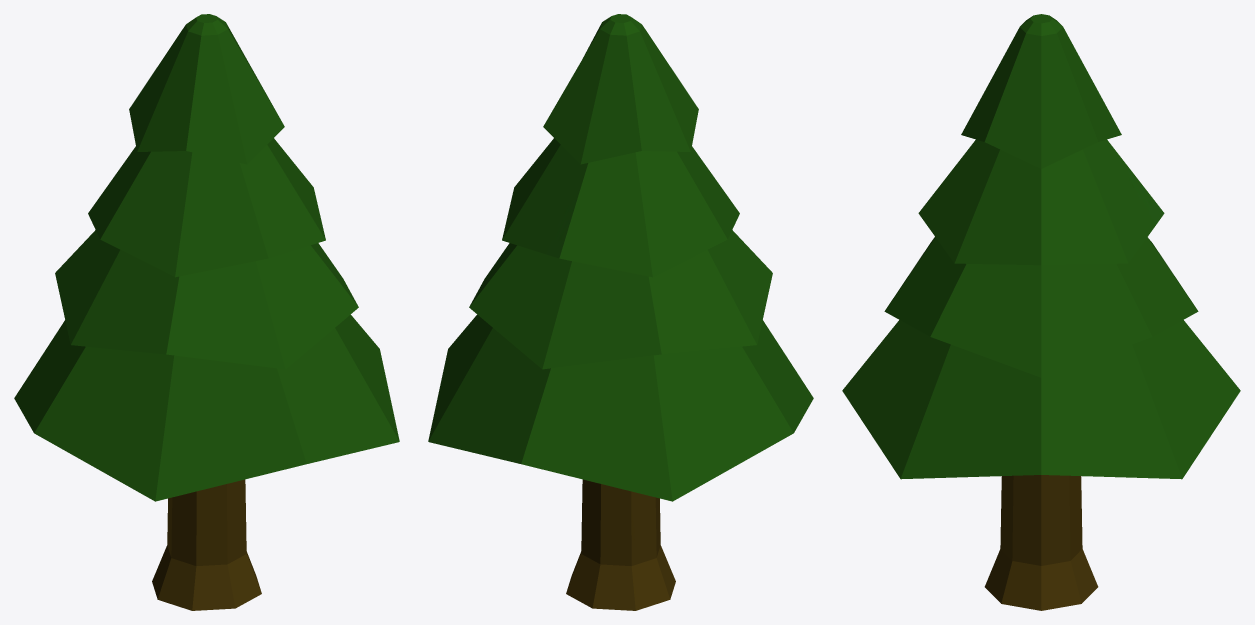
Rendered from PineTree2.FBX.
3 renders of one model, left to right at view 1: azimuth 30°, elevation 25°; view 2: azimuth 150°, elevation 25°; view 3: azimuth 270°, elevation 25°, orthographic.
Visible parts, largest first — view 1: PineTree001, PineTrunk; view 2: PineTree001, PineTrunk; view 3: PineTree001, PineTrunk.
Part boxes in pixels (left/top/right/bottom): PineTree001: left=14, top=14, right=399, bottom=501; PineTrunk: left=152, top=479, right=261, bottom=610; PineTree001: left=428, top=14, right=813, bottom=501; PineTrunk: left=566, top=479, right=675, bottom=610; PineTree001: left=842, top=14, right=1240, bottom=479; PineTrunk: left=984, top=475, right=1098, bottom=610.
Bounding box in the file's own units: 30.68 × 48.25 × 30.68.
